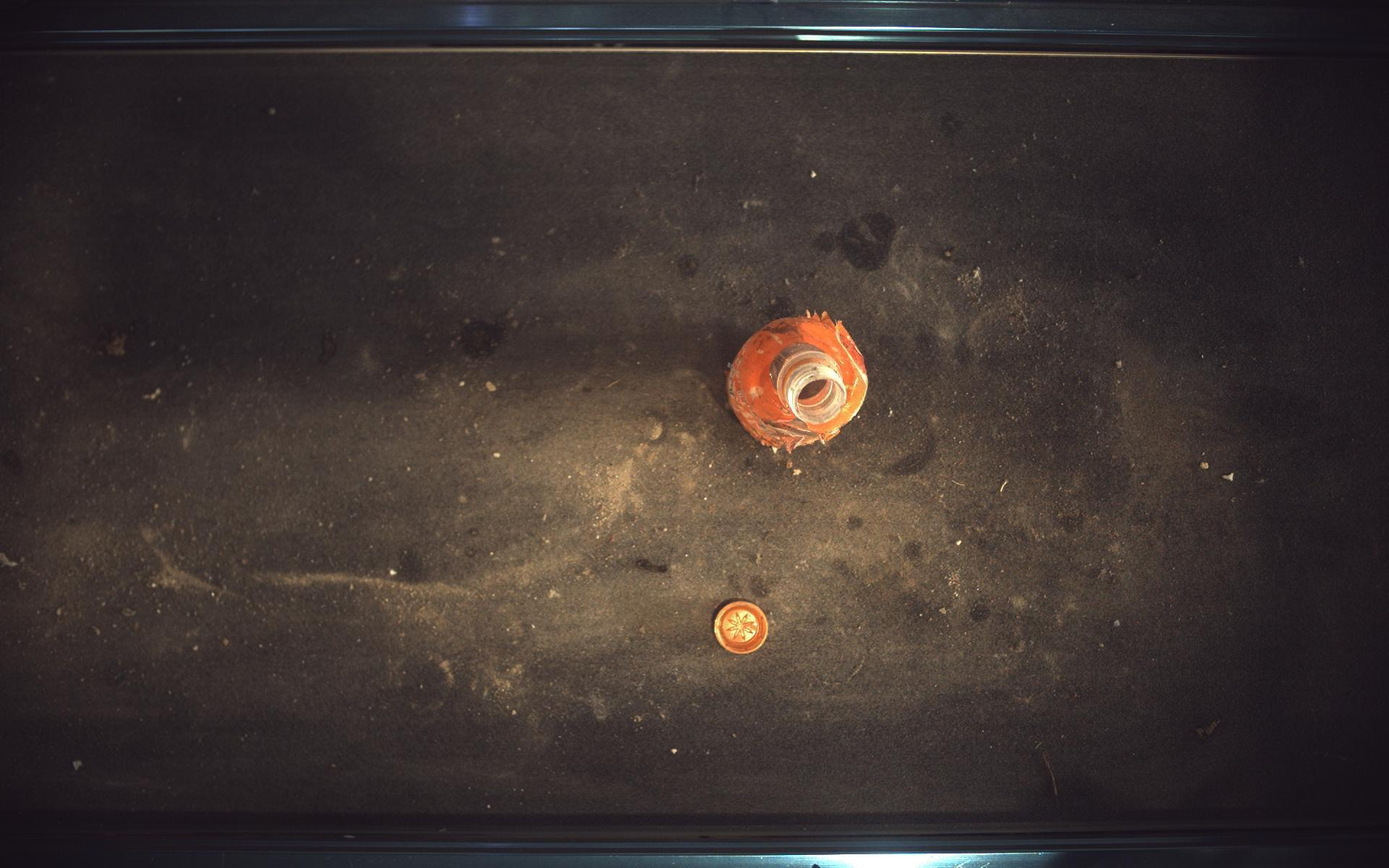general_w: (729, 311, 870, 453), (715, 601, 770, 655)
